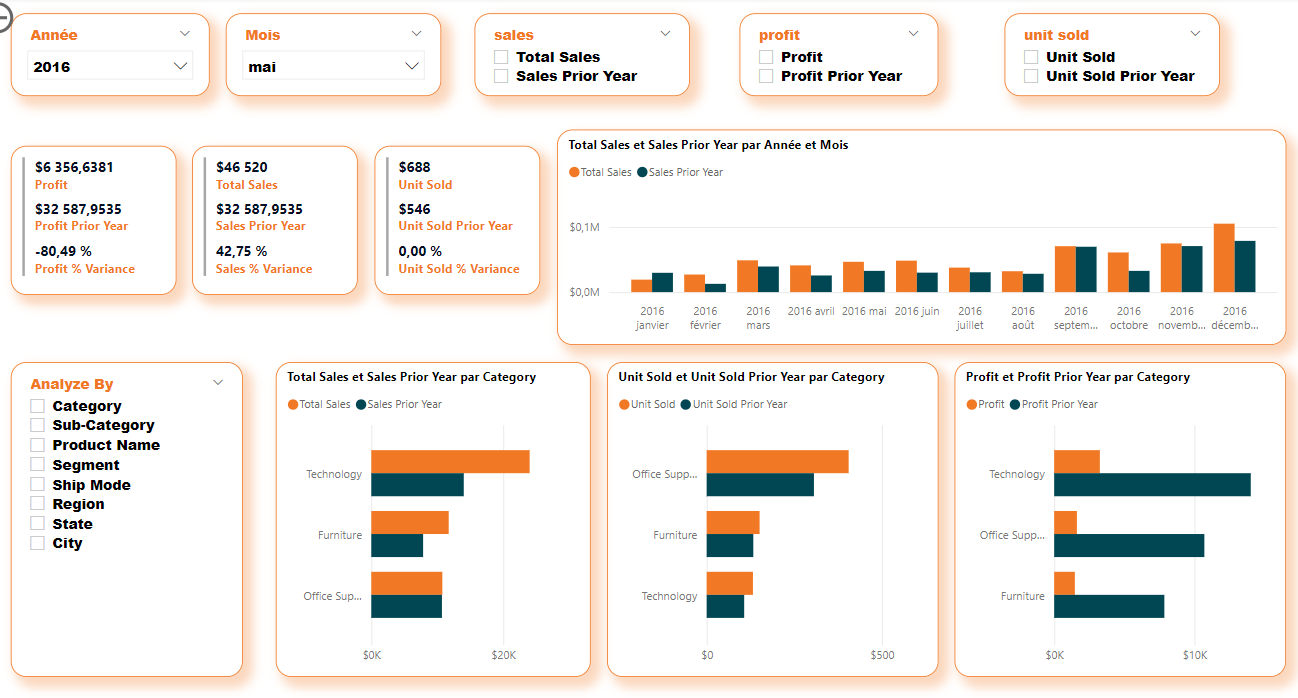

This screenshot's page, from the dashboard's own definition file:
{"tool":"powerbi","page":{"name":"Page 2","canvas":[1280,720],"ordinal":1},"visuals":[{"type":"slicer","fields":{"Values":["Calendar.Month.Variation.Hiérarchie de dates.Mois"]},"box":[240,16,208,80],"z":0},{"type":"slicer","fields":{"Values":["Calendar.Month.Variation.Hiérarchie de dates.Année"]},"box":[32,16,192,80],"z":1000},{"type":"actionButton","box":[0,0,100,40],"z":2000},{"type":"multiRowCard","fields":{"Values":["Metrics.Profit","Metrics.Profit Prior Year","Metrics.Profit % Variance"]},"box":[32,144,160,144],"z":3000},{"type":"multiRowCard","fields":{"Values":["Metrics.Unit Sold","Metrics.Unit Sold Prior Year","Metrics.Unit Sold % Variance"]},"box":[384,144,160,144],"z":4000},{"type":"multiRowCard","fields":{"Values":["Metrics.Total Sales","Metrics.Sales Prior Year","Metrics.Sales % Variance"]},"box":[208,144,160,144],"z":5000},{"type":"slicer","fields":{"Values":["Paramètre 2.Paramètre"]},"box":[32,352,224,304],"z":6000},{"type":"clusteredBarChart","fields":{"Category":["Orders.Category","Orders.Sub-Category","Orders.Product Name","Orders.Segment","Orders.Ship Mode","Orders.Region","Orders.State","Orders.City"],"Y":["Metrics.Total Sales","Metrics.Sales Prior Year"]},"box":[288,352,304,304],"z":7000},{"type":"clusteredBarChart","fields":{"Category":["Orders.Category","Orders.Sub-Category","Orders.Product Name","Orders.Segment","Orders.Ship Mode","Orders.Region","Orders.State","Orders.City"],"Y":["Metrics.Profit","Metrics.Profit Prior Year"]},"box":[944,352,320,304],"z":8000},{"type":"clusteredBarChart","fields":{"Category":["Orders.Category","Orders.Sub-Category","Orders.Product Name","Orders.Segment","Orders.Ship Mode","Orders.Region","Orders.State","Orders.City"],"Y":["Metrics.Unit Sold","Metrics.Unit Sold Prior Year"]},"box":[608,352,320,304],"z":9000},{"type":"slicer","fields":{"Values":["sales.sales"]},"box":[480,16,208,80],"z":10000},{"type":"slicer","fields":{"Values":["profit.profit"]},"box":[736,16,192,80],"z":11000},{"type":"clusteredColumnChart","fields":{"Y":["Metrics.Total Sales","Metrics.Sales Prior Year"],"Category":["Calendar.Month.Variation.Hiérarchie de dates.Année","Calendar.Month.Variation.Hiérarchie de dates.Mois"]},"box":[560,128,704,208],"z":12000},{"type":"slicer","fields":{"Values":["unit sold.unit sold"]},"box":[992,16,208,80],"z":13000}]}

Visuals, with their boxes on the page's 1280x720 design canvas (x1, y1, x2, y2). These are canvas units, not pixel positions in the 1298x698 screenshot, which may show the page scaled, cropped or inside an application window:
slicer - Calendar.Month.Variation.Hiérarchie de dates.Mois: [left=240, top=16, right=448, bottom=96]
slicer - Calendar.Month.Variation.Hiérarchie de dates.Année: [left=32, top=16, right=224, bottom=96]
actionButton: [left=0, top=0, right=100, bottom=40]
multiRowCard - Metrics.Profit x Metrics.Profit Prior Year: [left=32, top=144, right=192, bottom=288]
multiRowCard - Metrics.Unit Sold x Metrics.Unit Sold Prior Year: [left=384, top=144, right=544, bottom=288]
multiRowCard - Metrics.Total Sales x Metrics.Sales Prior Year: [left=208, top=144, right=368, bottom=288]
slicer - Paramètre 2.Paramètre: [left=32, top=352, right=256, bottom=656]
clusteredBarChart - Orders.Category x Orders.Sub-Category: [left=288, top=352, right=592, bottom=656]
clusteredBarChart - Orders.Category x Orders.Sub-Category: [left=944, top=352, right=1264, bottom=656]
clusteredBarChart - Orders.Category x Orders.Sub-Category: [left=608, top=352, right=928, bottom=656]
slicer - sales.sales: [left=480, top=16, right=688, bottom=96]
slicer - profit.profit: [left=736, top=16, right=928, bottom=96]
clusteredColumnChart - Metrics.Total Sales x Metrics.Sales Prior Year: [left=560, top=128, right=1264, bottom=336]
slicer - unit sold.unit sold: [left=992, top=16, right=1200, bottom=96]
